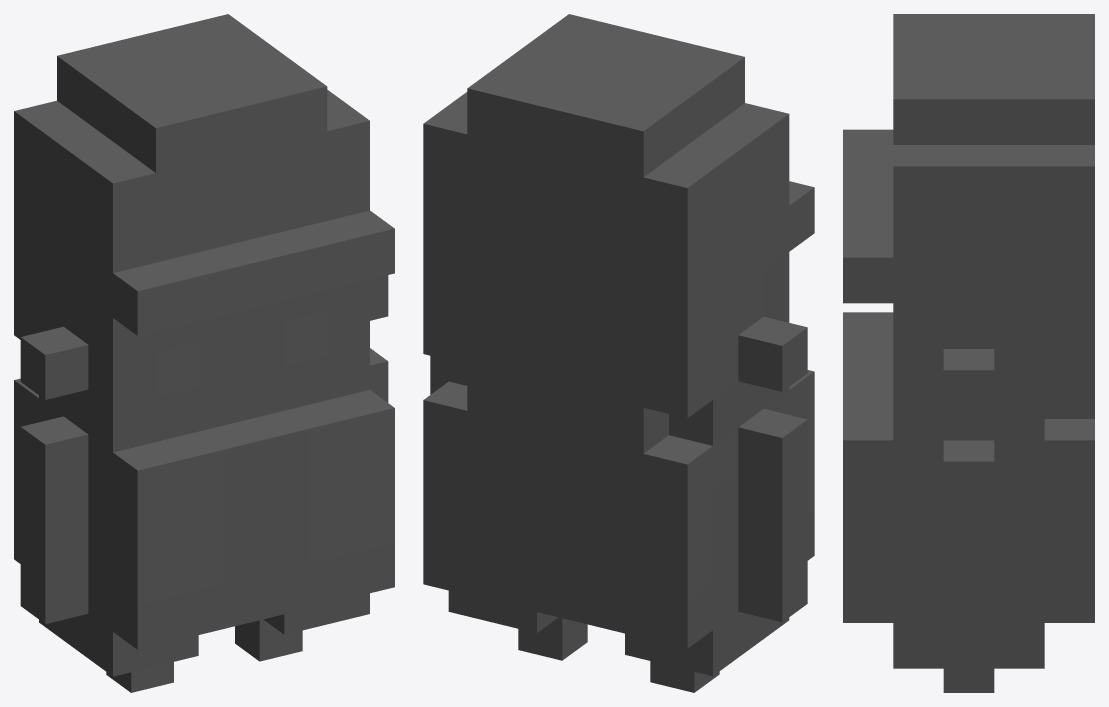
File: chr_worker3.obj
3 renders of one model, left to right at view 1: azimuth 30°, elevation 25°; view 2: azimuth 150°, elevation 25°; view 3: azimuth 270°, elevation 25°, orthographic. The views are drawn at different scales.
Bounding box in the file's own units: 8 × 13 × 5.
